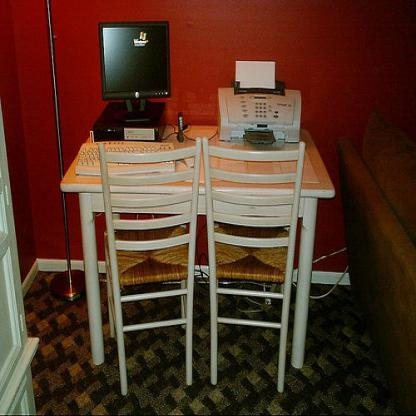chair: (98, 140, 203, 396), (203, 135, 306, 394)
sofa: (336, 113, 415, 415)
tvmonitor: (97, 20, 173, 124)
